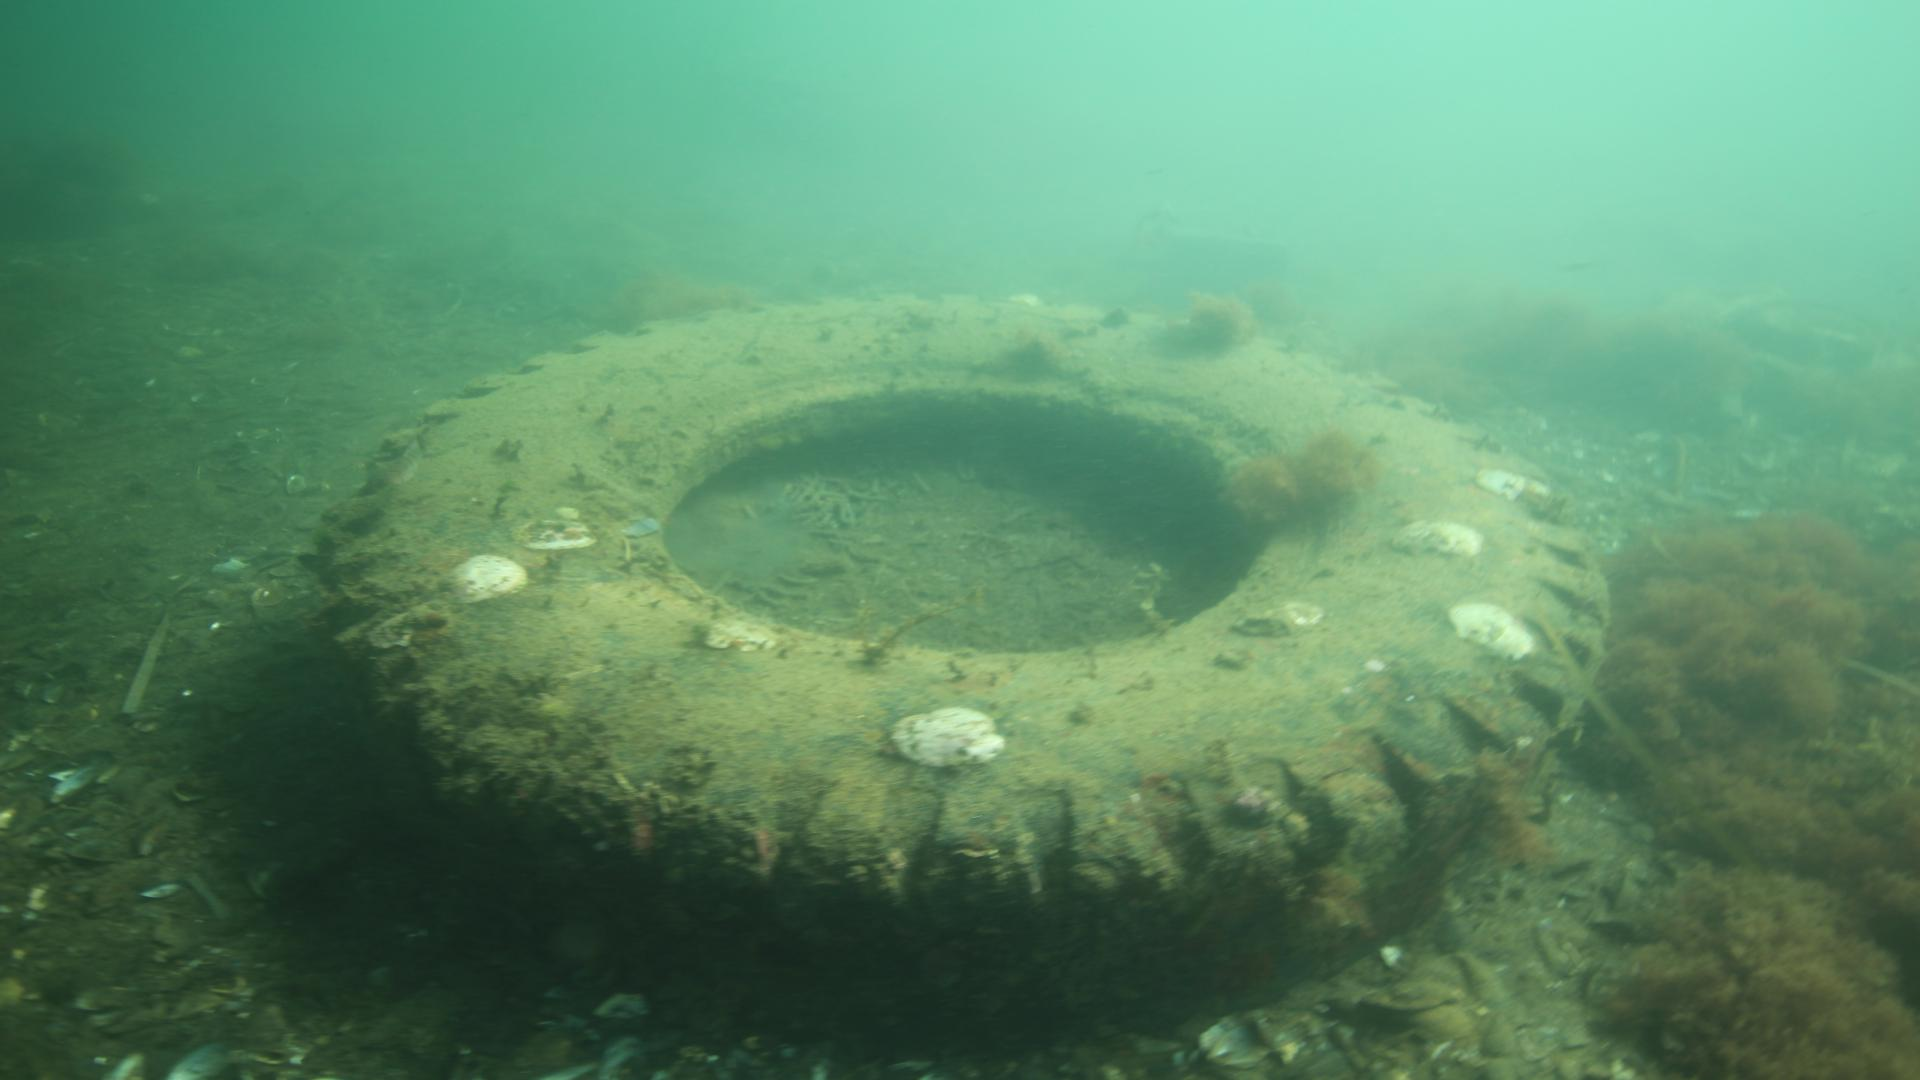tire: (323, 295, 1611, 1062)
